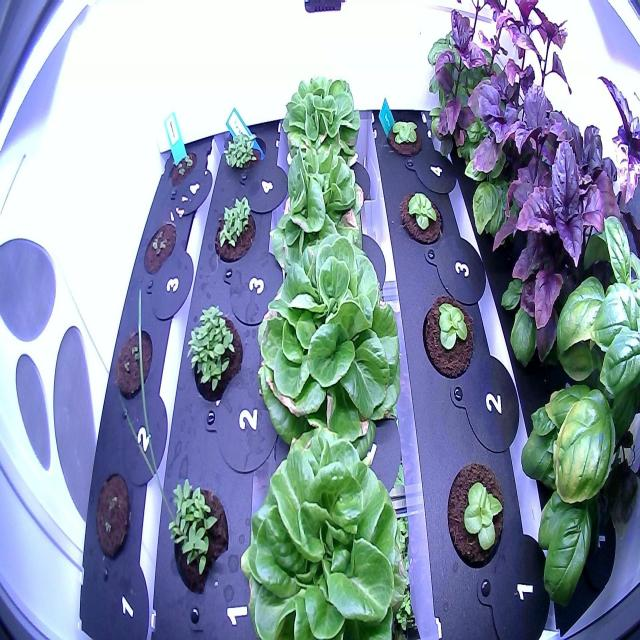Ready: (235, 400, 414, 640), (252, 224, 404, 452), (269, 136, 374, 256), (273, 64, 364, 172)
germination: (160, 472, 234, 607), (182, 295, 245, 409), (91, 468, 136, 566), (207, 186, 259, 268), (112, 318, 154, 406), (138, 208, 178, 285), (221, 125, 270, 183), (163, 140, 202, 198)
young: (443, 449, 510, 575), (422, 287, 483, 385), (396, 180, 446, 253), (382, 109, 426, 164)
